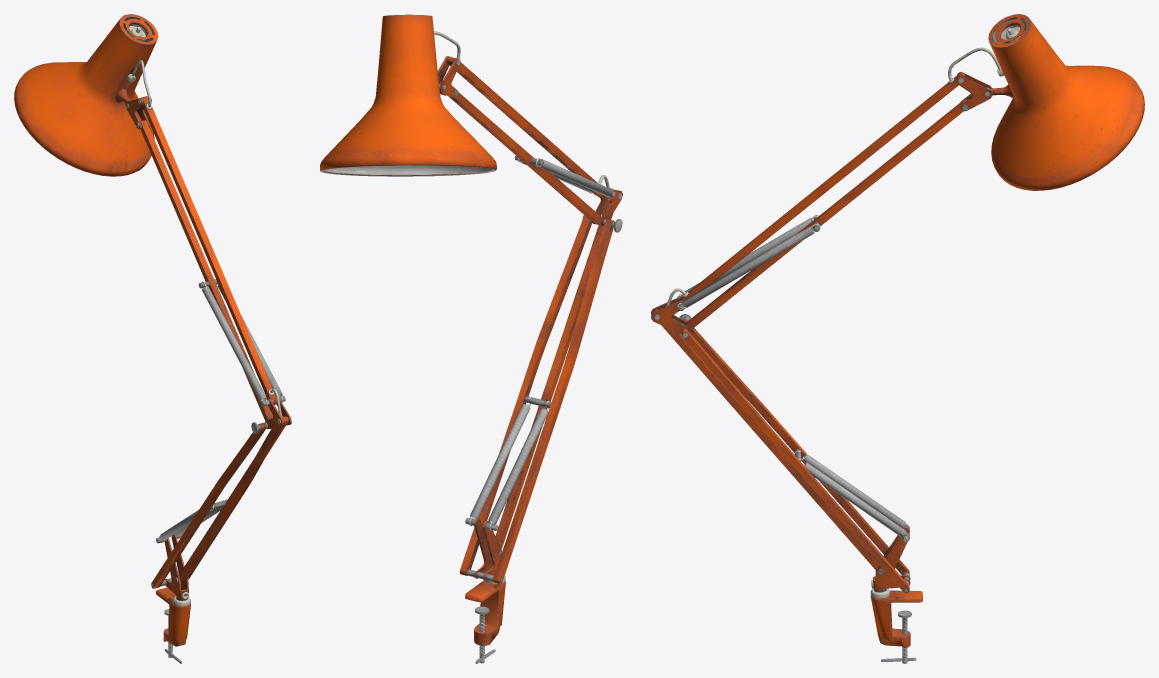
The model's file is desk_lamp_arm_01.glb.
The picture shows the model from 3 angles, left to right: view 1: azimuth 30°, elevation 25°; view 2: azimuth 150°, elevation 25°; view 3: azimuth 270°, elevation 25°; orthographic projection. The views are drawn at different scales.
Visible parts, largest first — view 1: desk_lamp_arm_01; view 2: desk_lamp_arm_01; view 3: desk_lamp_arm_01.
Part boxes in pixels (x1,y1,x2,y2): desk_lamp_arm_01: (14, 14, 291, 663); desk_lamp_arm_01: (320, 14, 622, 663); desk_lamp_arm_01: (651, 14, 1144, 663).
Size of the model in its own units: 0.2017 by 0.8926 by 0.6139.
Materials: 2 (2 with a texture image).
